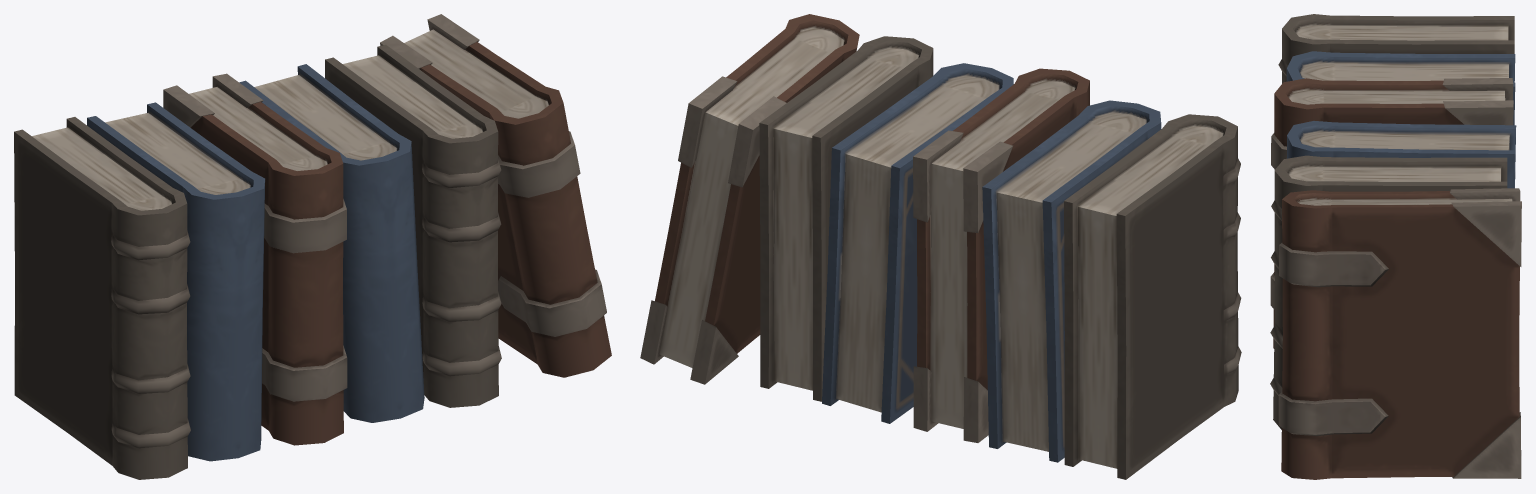
3 views of the same model, side by side, from view 1: azimuth 30°, elevation 25°; view 2: azimuth 150°, elevation 25°; view 3: azimuth 270°, elevation 25° (orthographic). The views are drawn at different scales.
Visible parts, largest first — view 1: submesh_0; view 2: submesh_0; view 3: submesh_0.
Part boxes in pixels (x1,y1,x2,y2): submesh_0: (14,14,611,479); submesh_0: (640,14,1241,479); submesh_0: (1270,14,1521,479).
Size of the model in its own units: 0.7021 by 0.3791 by 0.3282.
Materials: 1 (1 with a texture image).
